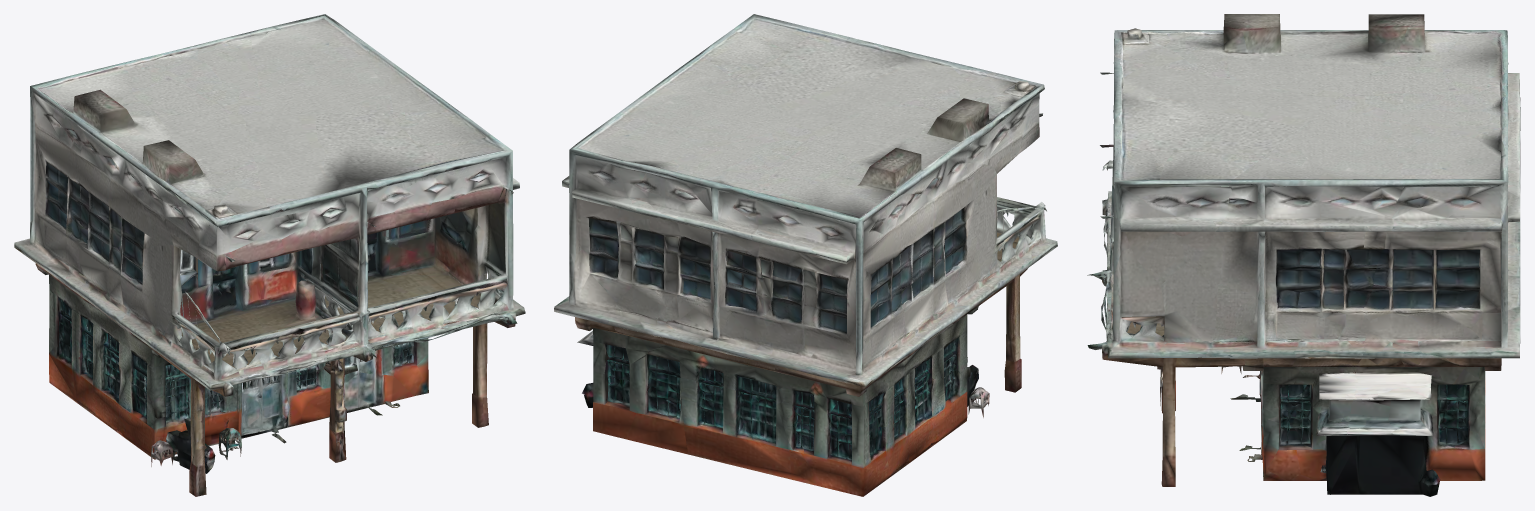
File: storefront.glb
3 views of the same model, side by side, from view 1: azimuth 30°, elevation 25°; view 2: azimuth 150°, elevation 25°; view 3: azimuth 270°, elevation 25° (orthographic). The views are drawn at different scales.
Parts seen in each view (by area): view 1: tripo_node_d43cb0b8-6255-4ff2-8a4c-6ae3dc0a152b; view 2: tripo_node_d43cb0b8-6255-4ff2-8a4c-6ae3dc0a152b; view 3: tripo_node_d43cb0b8-6255-4ff2-8a4c-6ae3dc0a152b.
Boxes of the visible parts, x1,y1,x2,y2 form: tripo_node_d43cb0b8-6255-4ff2-8a4c-6ae3dc0a152b: [14, 14, 525, 496]; tripo_node_d43cb0b8-6255-4ff2-8a4c-6ae3dc0a152b: [554, 14, 1057, 496]; tripo_node_d43cb0b8-6255-4ff2-8a4c-6ae3dc0a152b: [1087, 14, 1520, 496].
Bounding box in the file's own units: 0.9142 × 0.81 × 0.9807.
Materials: 1 (1 with a texture image).
